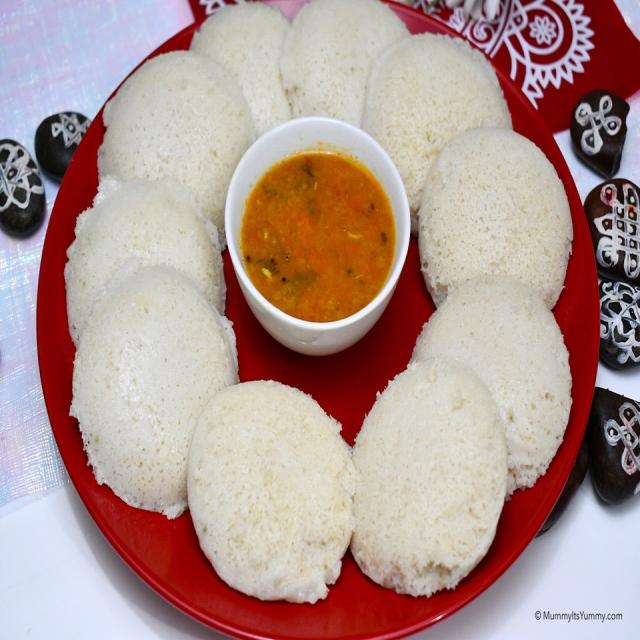idli: (67, 259, 247, 550), (185, 373, 355, 606), (346, 354, 506, 593), (58, 172, 233, 384), (410, 273, 570, 483), (415, 121, 578, 321), (359, 28, 513, 238), (102, 44, 251, 252), (280, 0, 419, 151), (189, 5, 307, 162)
